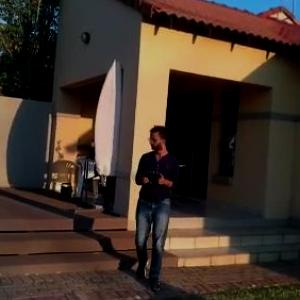follow: (131, 124, 182, 294)
